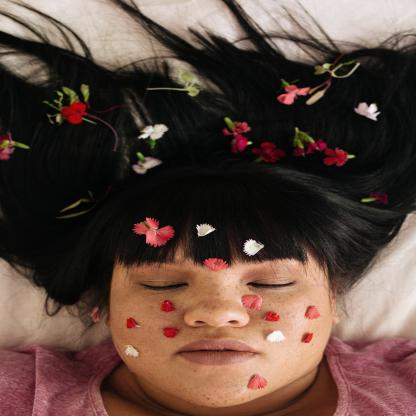Eye: (134, 274, 188, 296), (244, 274, 309, 291)
Mouth: (171, 331, 265, 371)
Nose: (183, 286, 255, 332)
